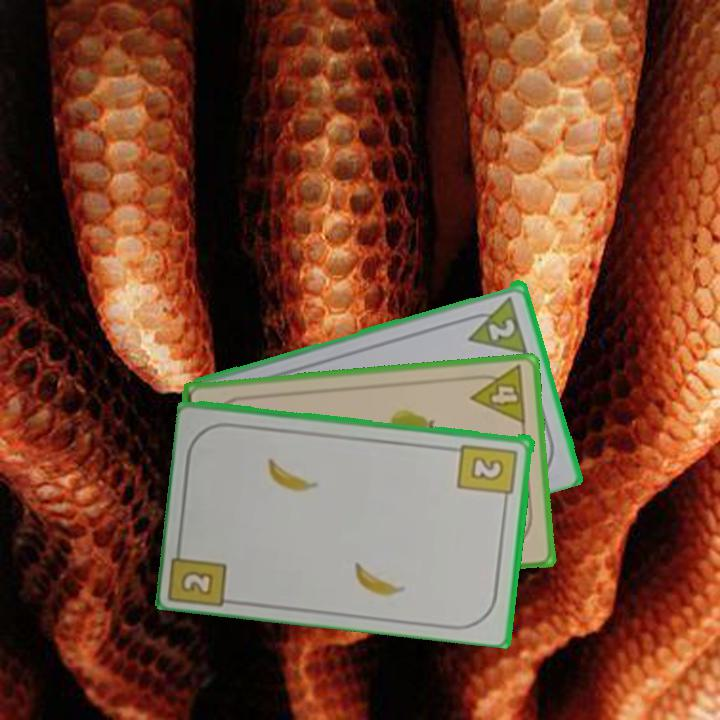2b: (455, 440, 520, 506), (177, 567, 217, 598)
2p: (485, 314, 519, 343)
4p: (466, 362, 529, 427)
